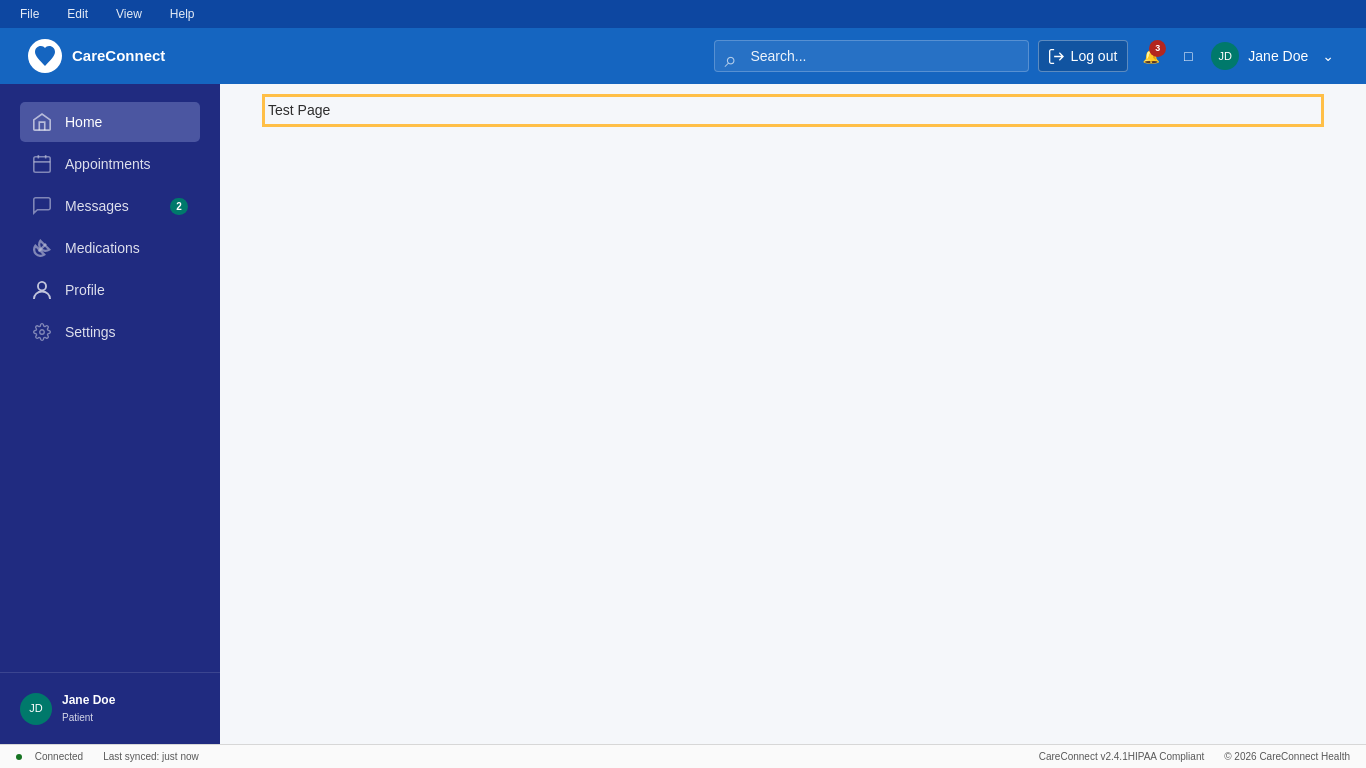
Test case: Shell › Calendar opens appointment details and links to all appointments
What coordinates should you click on to do the following:
click the button named "Calendar"
I would click on:
 (1188, 56)
Its box is [1174,42,1202,70].
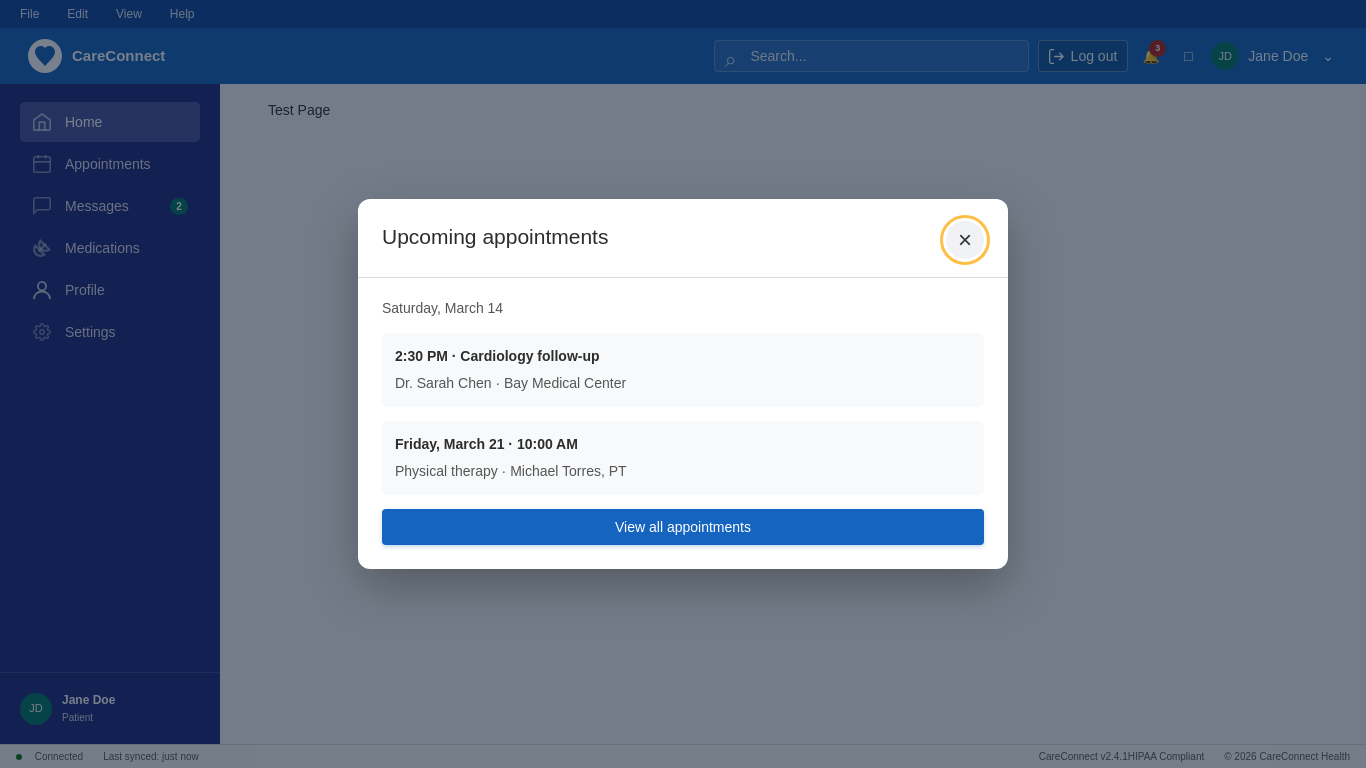
Expected: the text "2:30 PM · Cardiology follow-up" is shown, [395,348,600,364]
What coordinates should you click on to do the following:
click the button "View all appointments"
I would click on:
 (683, 527)
Its box is [382,509,984,545].
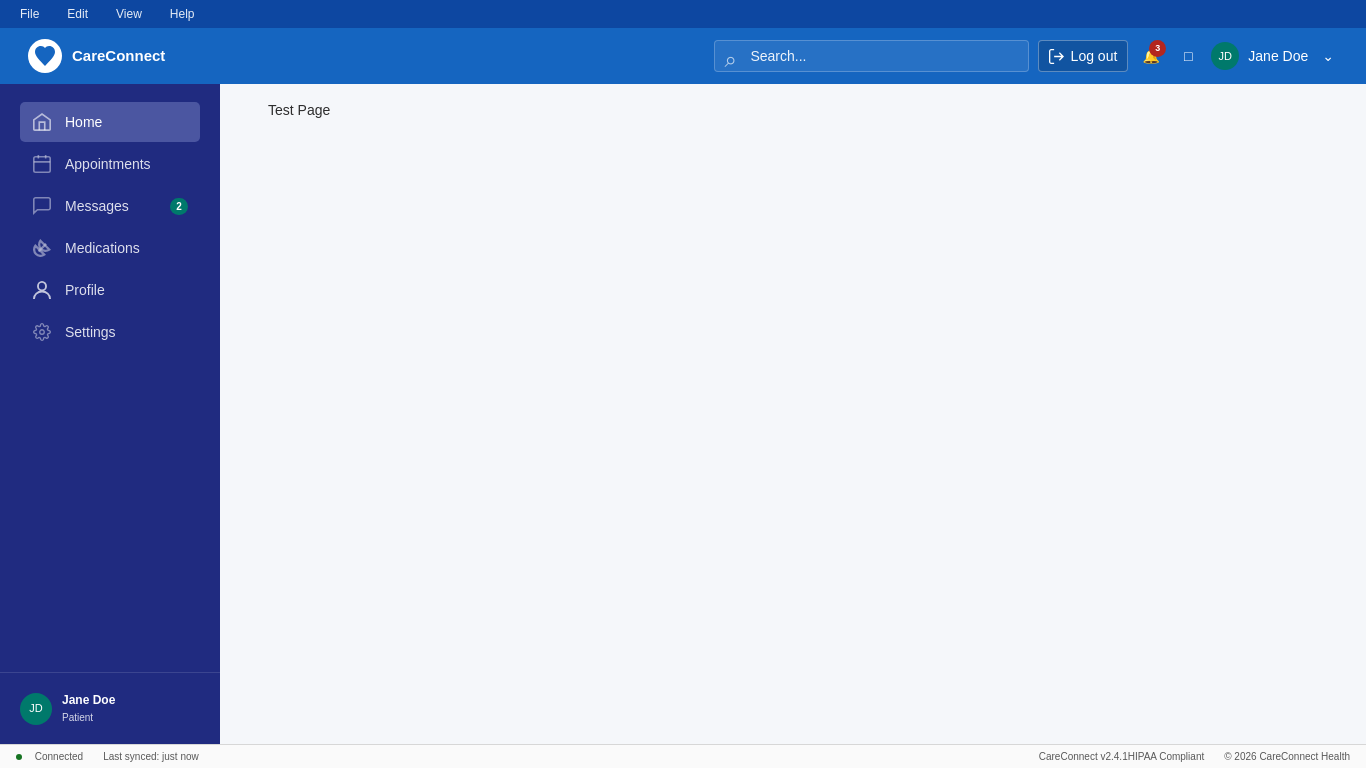
Expected: the heading "Upcoming appointments" is gone
